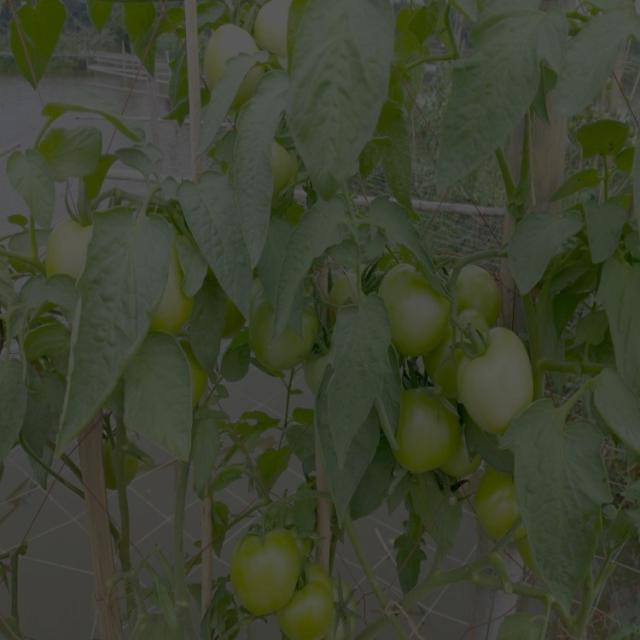tomato: (460, 326, 531, 431), (383, 260, 455, 357), (238, 528, 315, 616), (397, 391, 465, 471), (40, 205, 89, 282), (288, 567, 337, 640), (479, 475, 521, 545), (259, 1, 300, 68), (203, 26, 263, 71), (156, 266, 194, 336), (455, 265, 500, 324), (269, 136, 306, 207), (331, 575, 357, 640), (290, 304, 320, 358), (109, 444, 140, 489), (332, 273, 373, 304)
